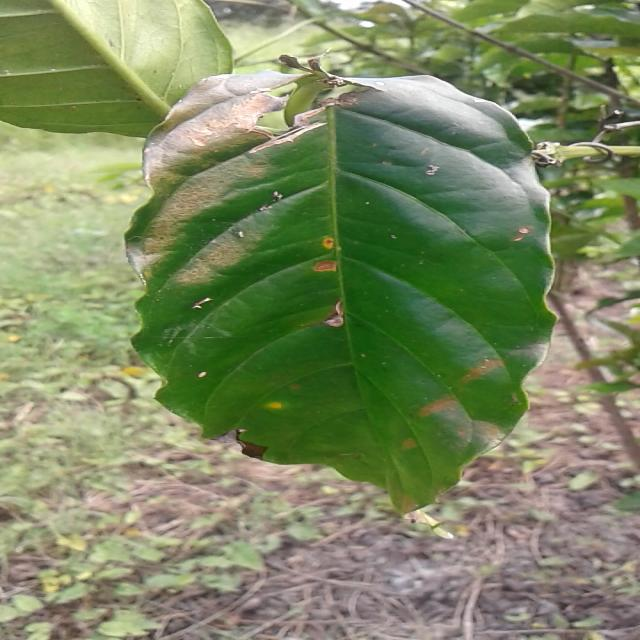Enfermedad-Roya: (124, 68, 556, 516)
